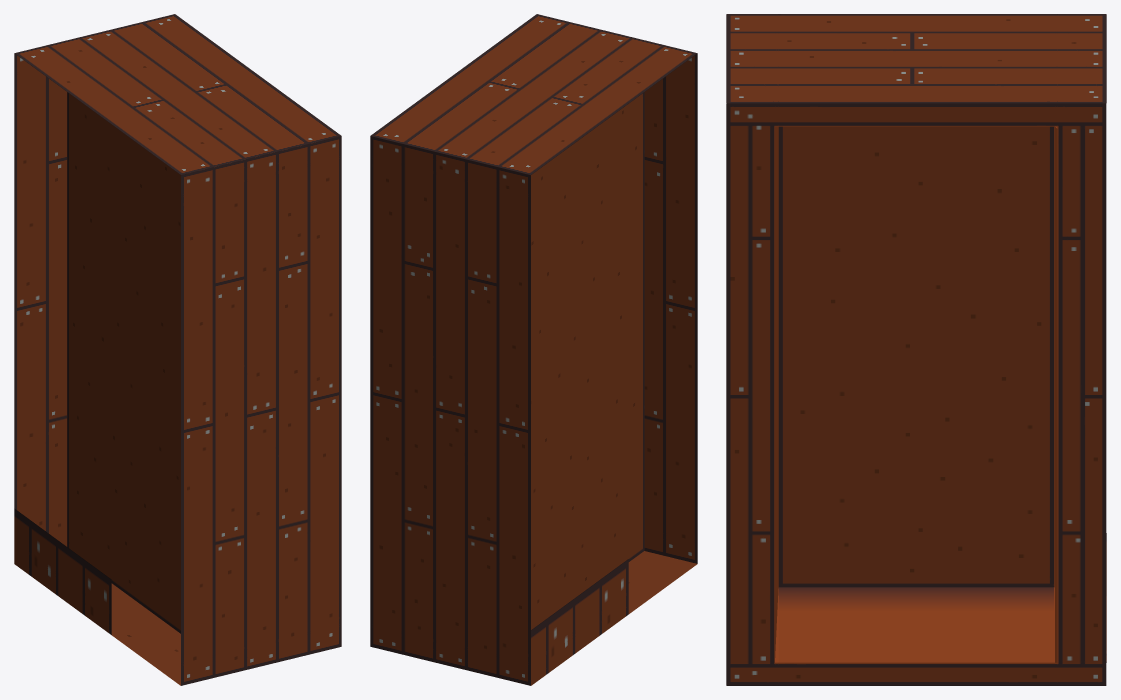
Rendered from bookshelf.fbx.
3 renders of one model, left to right at view 1: azimuth 30°, elevation 25°; view 2: azimuth 150°, elevation 25°; view 3: azimuth 270°, elevation 25°, orthographic. The views are drawn at different scales.
Parts seen in each view (by area): view 1: Cube; view 2: Cube; view 3: Cube.
Part boxes in pixels (x1,y1,x2,y2): Cube: [14, 14, 341, 685]; Cube: [370, 14, 697, 685]; Cube: [726, 14, 1106, 685].
Size of the model in its own units: 642 by 1947 by 1152.
